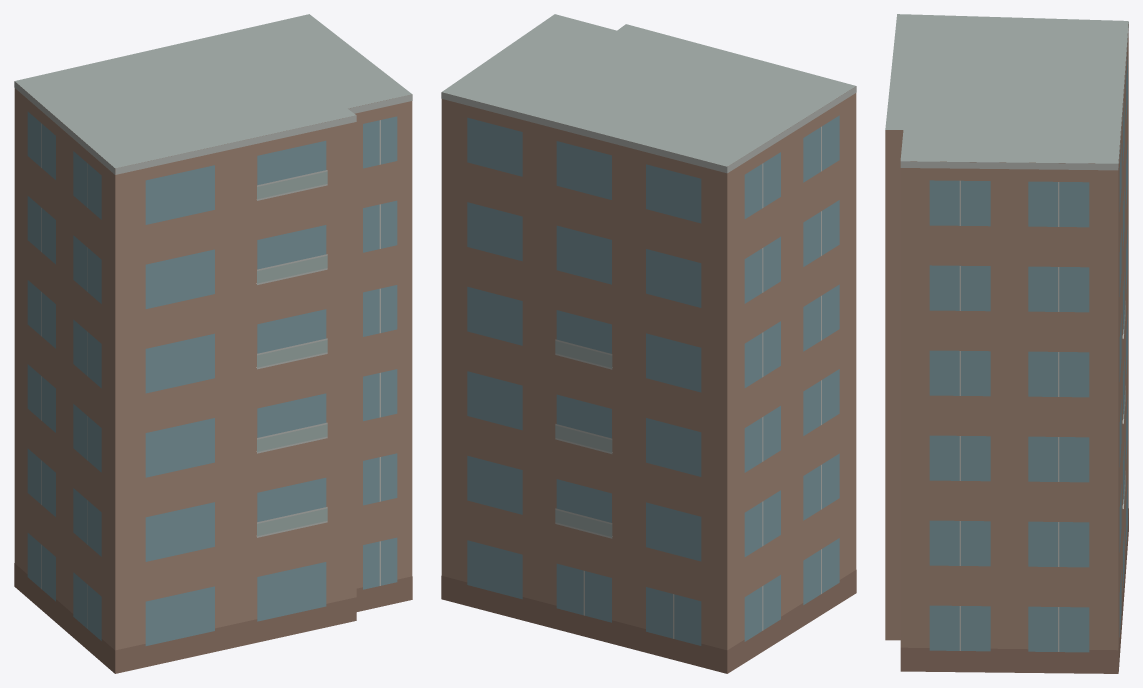
The model's file is survey-upis-32769260.glb.
3 renders of one model, left to right at view 1: azimuth 30°, elevation 25°; view 2: azimuth 150°, elevation 25°; view 3: azimuth 270°, elevation 25°, orthographic.
Visible parts, largest first — view 1: survey-upis-32769260.tmp; view 2: survey-upis-32769260.tmp; view 3: survey-upis-32769260.tmp.
Boxes of the visible parts, bbox=[...] form: survey-upis-32769260.tmp: bbox=[14, 14, 412, 673]; survey-upis-32769260.tmp: bbox=[441, 14, 856, 673]; survey-upis-32769260.tmp: bbox=[885, 14, 1128, 673].
Bounding box in the file's own units: 11.77 × 18.68 × 8.09.
